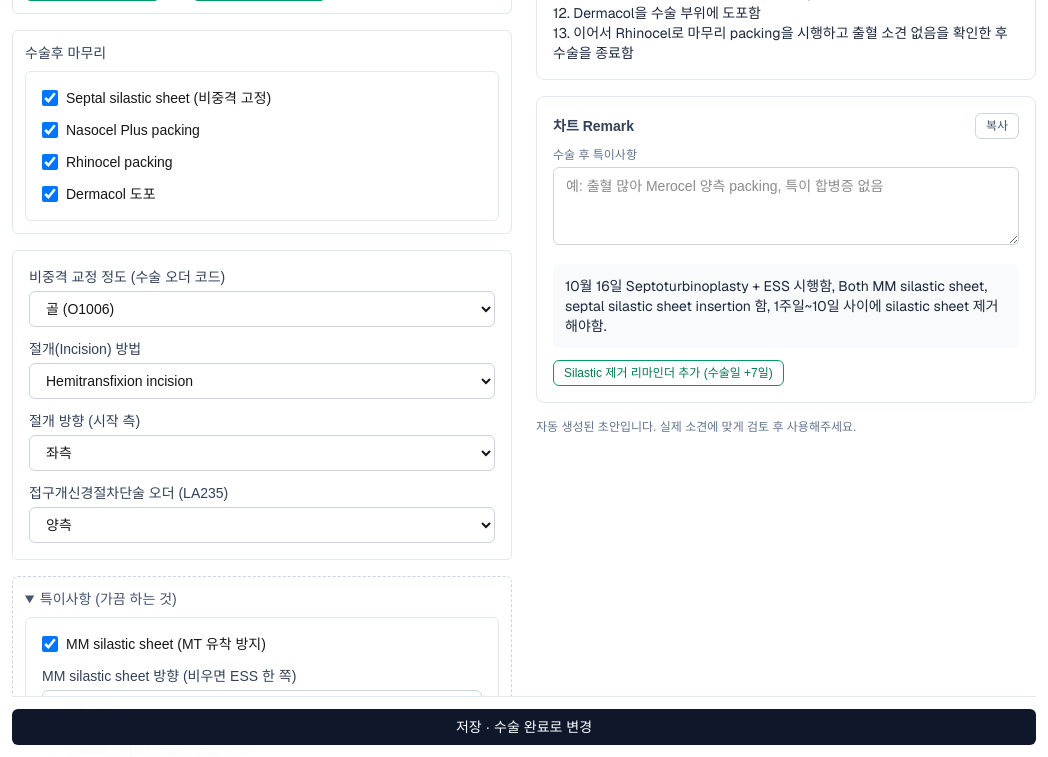
Scenario: Silastic 제거 리마인더 › silastic을 넣었으면 수술 후 화면에 버튼이 보이고, 누르면 수술 날짜로 추가한다
The width and height of the screenshot is (1048, 757).
(page scrolled)
Click the button "Silastic 제거 리마인더 추가 (수술일 +7일)" at [668, 373], box [553,360,784,386]
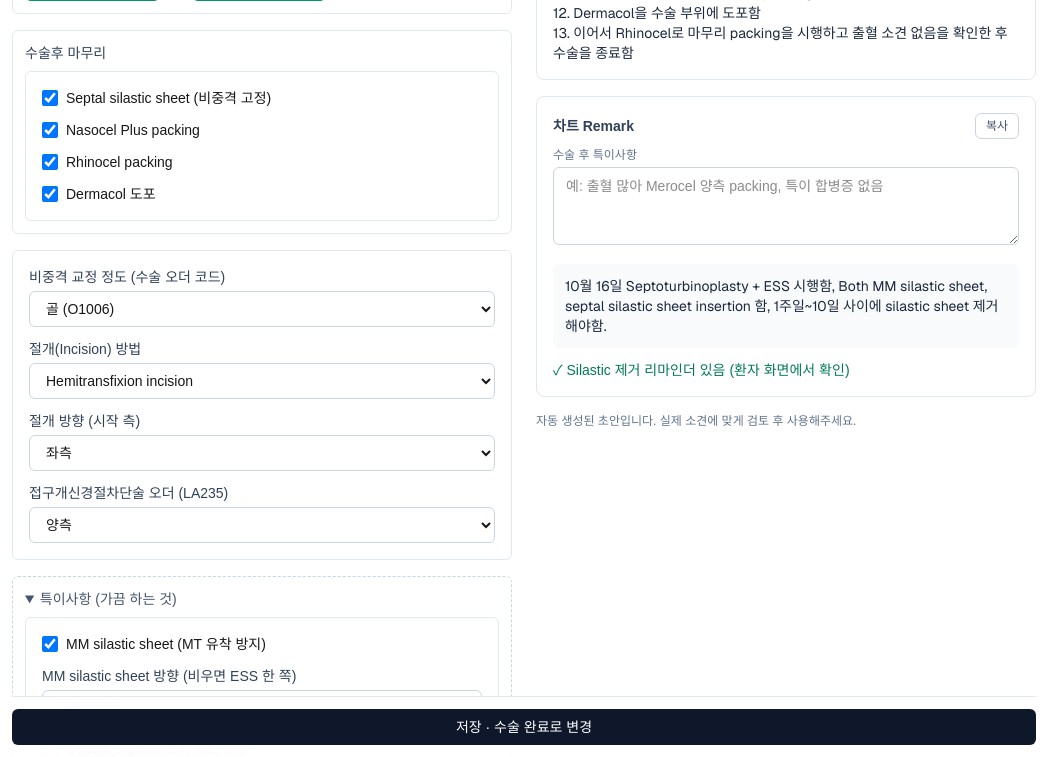
Check: the text "✓ Silastic 제거 리마인더 있음 (환자 화면에서 확인)" is shown, box [553,360,850,380]
